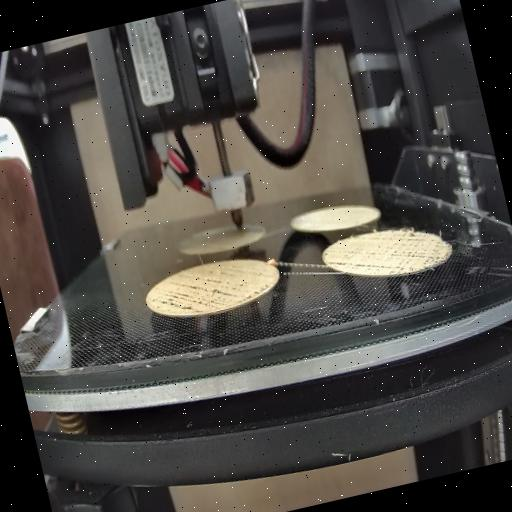under_extrusion: (322, 222, 448, 287), (146, 262, 274, 324)
